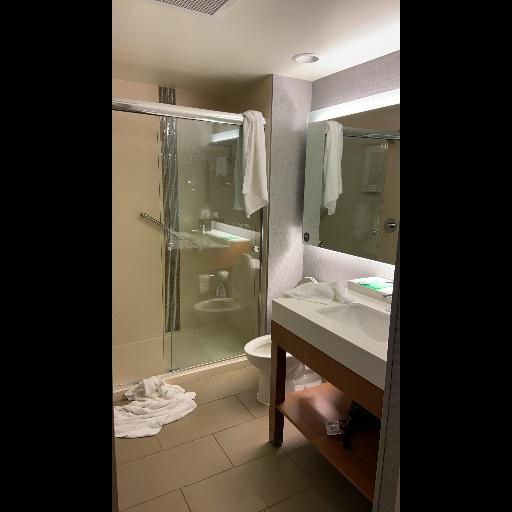disorganized_towel: (112, 376, 206, 448), (231, 107, 276, 223), (319, 119, 346, 215), (285, 275, 346, 311)
